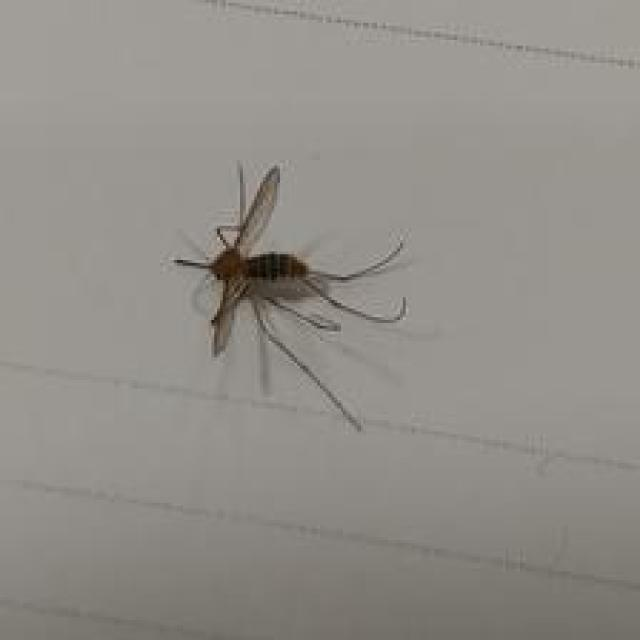Culex: (172, 160, 412, 431)
